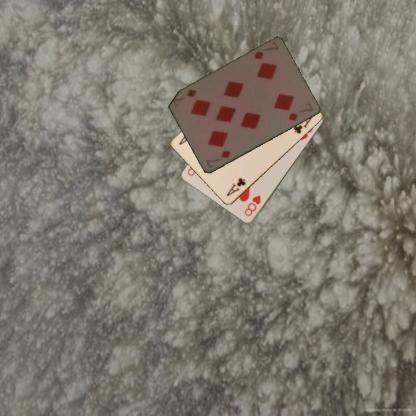7d: (203, 148, 232, 170), (251, 39, 280, 61)
8h: (242, 192, 262, 218)
Ac: (224, 175, 247, 198)
